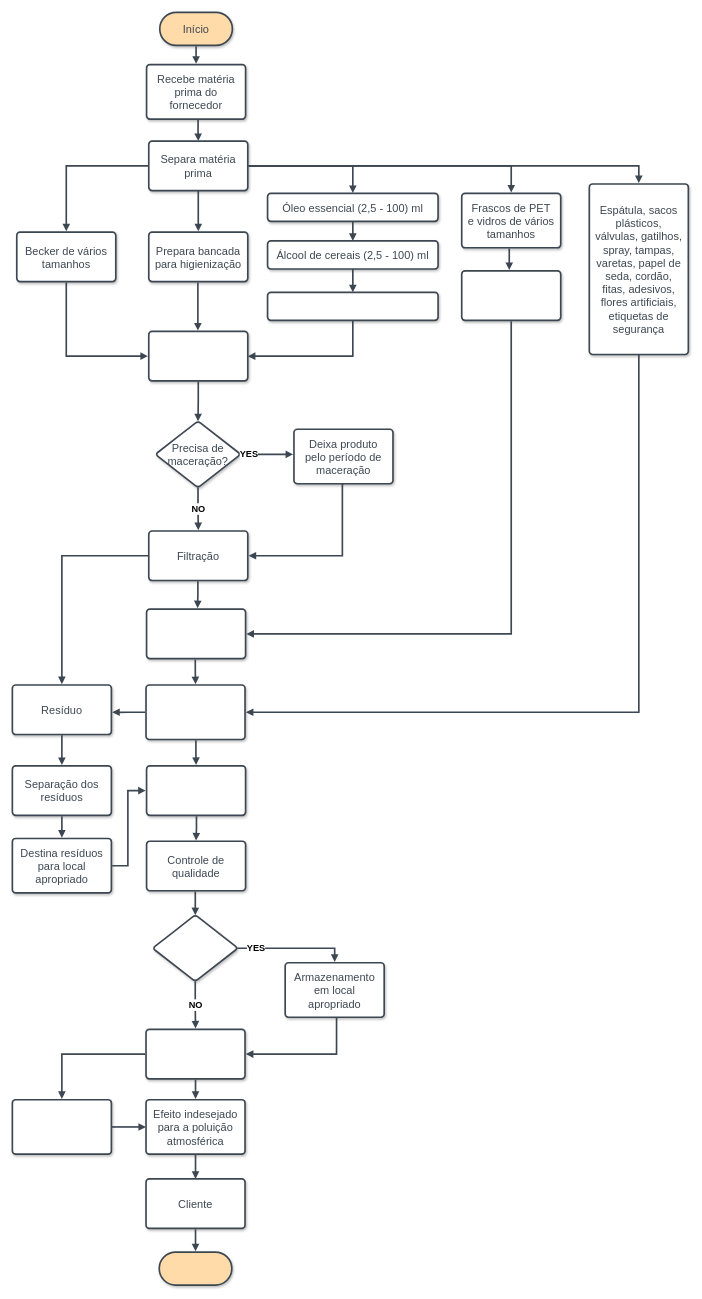
This 702x1299 diagram has some shape labels left out. The centre of each missing label's shape, as x and y in pixels:
"Emissão de gases no transporte" belongs at pixel 62 1127.
"Envase" belongs at pixel 196 634.
"Final" belongs at pixel 196 1269.
"Higienização dos frascos" belongs at pixel 511 296.
"Mistura" belongs at pixel 198 356.
"Precisa de armazenamento" belongs at pixel 195 949.
"Produto pronto" belongs at pixel 196 791.
"Rotulagem e identificação do produto" belongs at pixel 196 713.
"Transporte com veículo" belongs at pixel 196 1054.
"Água (2,5 - 700) ml" belongs at pixel 353 307.
